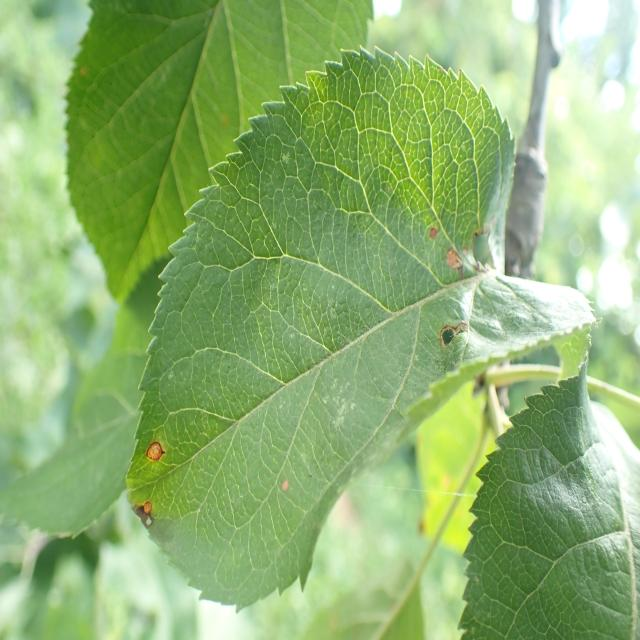Black Rot: (428, 300, 478, 352), (126, 424, 172, 480), (128, 498, 171, 545), (408, 196, 442, 250), (440, 241, 471, 281), (270, 472, 293, 505)
